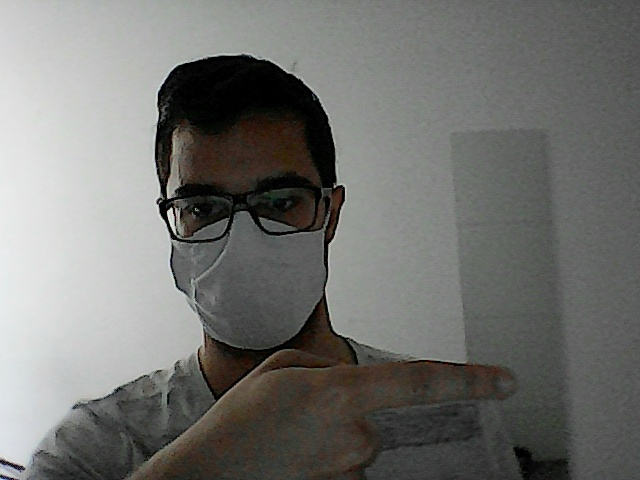left: (182, 340, 534, 480)
